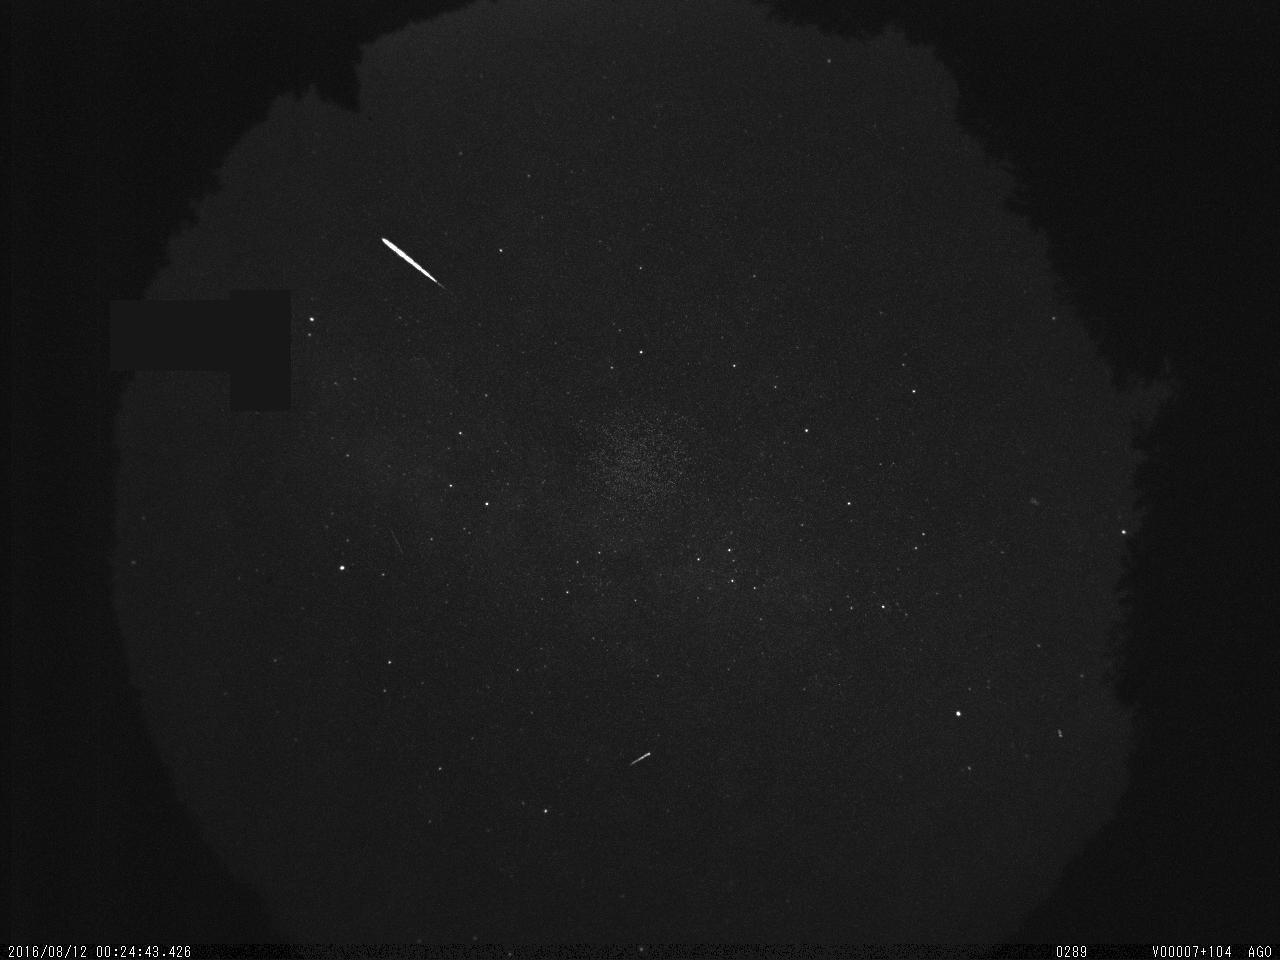Meteor: (379, 235, 447, 290), (628, 749, 653, 766)
